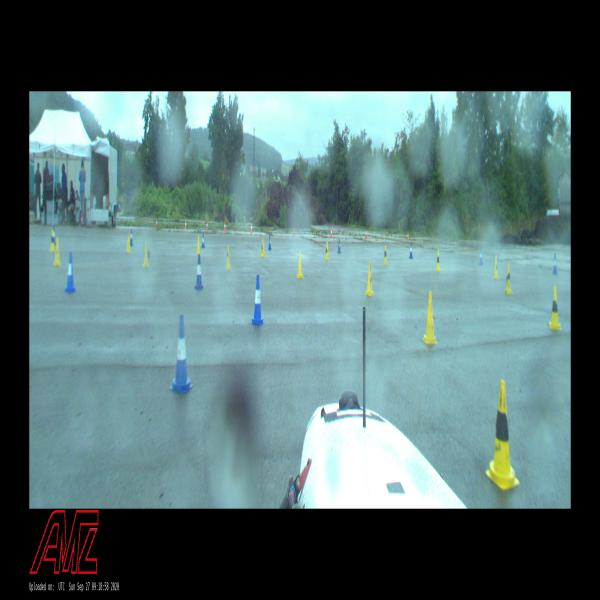blue_cone: (169, 314, 194, 394), (250, 276, 265, 326), (64, 251, 77, 293), (194, 254, 204, 290), (552, 254, 558, 274), (479, 247, 483, 265), (129, 229, 133, 246), (409, 243, 413, 258), (268, 235, 272, 250), (202, 233, 206, 247), (338, 238, 341, 254)
orange_cone: (184, 219, 187, 230), (155, 217, 158, 228), (366, 228, 368, 239), (293, 225, 295, 236), (206, 220, 208, 231), (330, 228, 332, 238), (224, 222, 226, 231), (407, 232, 409, 241), (251, 224, 252, 234)
yellow_cone: (485, 379, 520, 490), (422, 291, 437, 344), (549, 286, 561, 331), (365, 262, 374, 296), (504, 264, 512, 294), (53, 237, 61, 265), (296, 251, 304, 279), (225, 245, 232, 270), (492, 256, 499, 279), (143, 242, 149, 267), (49, 230, 55, 252), (196, 236, 201, 254), (436, 250, 440, 272), (383, 245, 387, 264), (325, 241, 329, 260), (127, 234, 131, 253), (261, 239, 265, 257)
